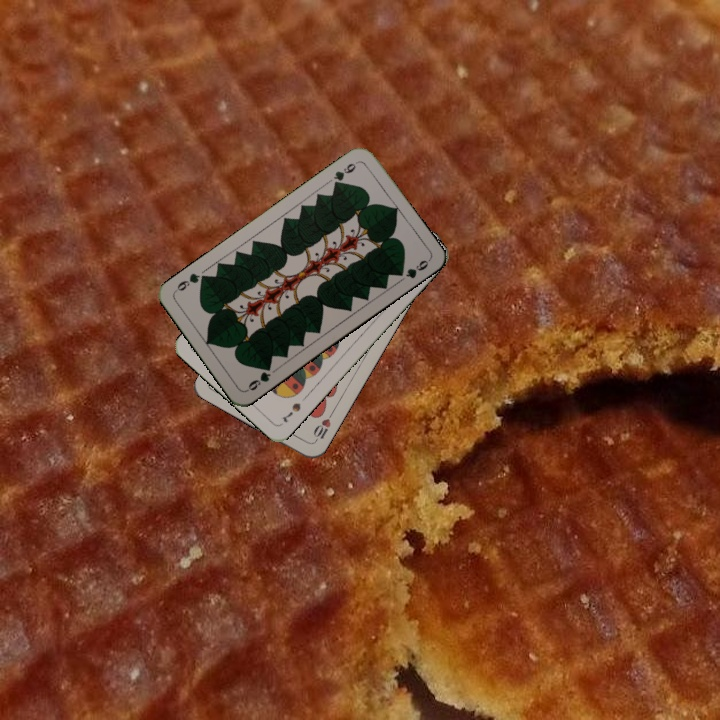G9: (242, 361, 274, 394), (329, 157, 361, 189)
H10: (309, 408, 336, 445)
S7: (278, 399, 303, 425)
